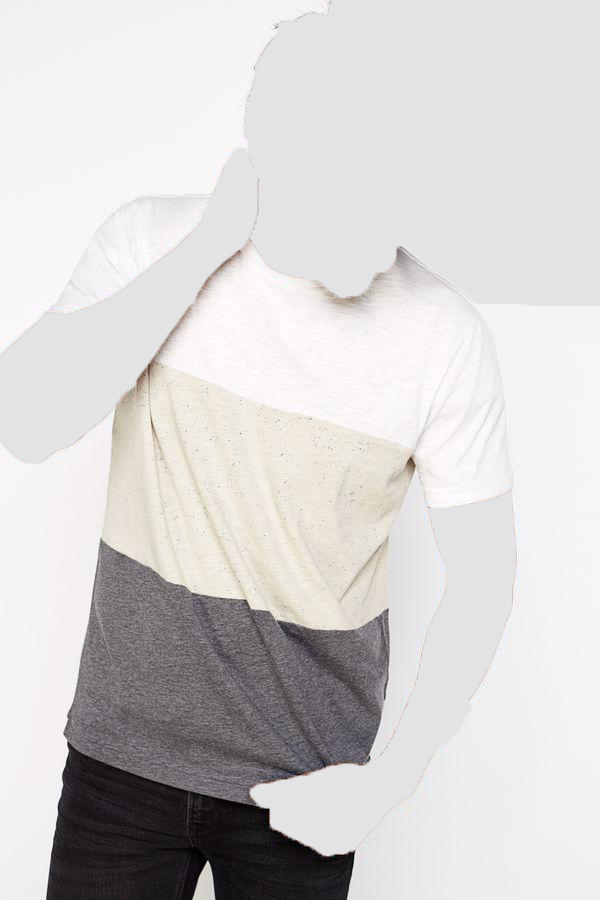teeshirt: (38, 185, 523, 815)
